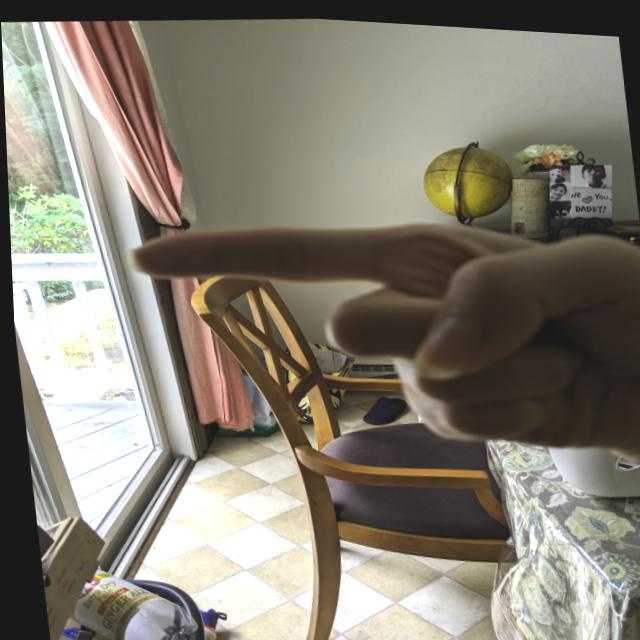G: (103, 181, 639, 490)
